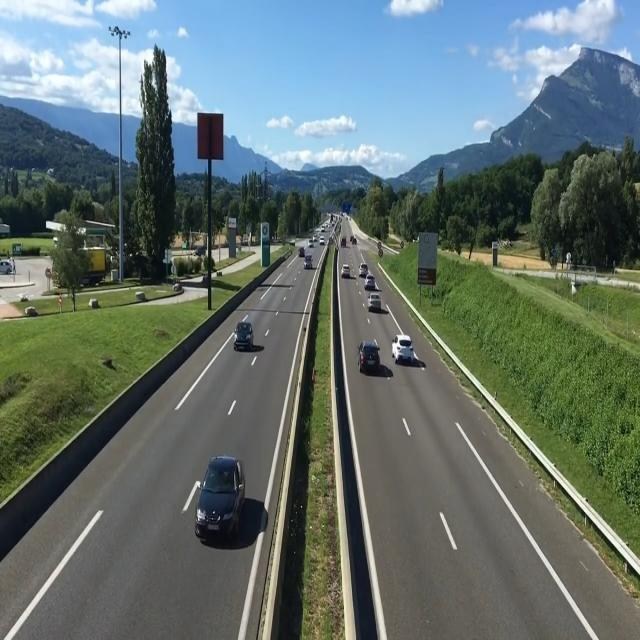Car: (193, 454, 249, 544), (355, 338, 385, 376), (387, 331, 418, 363), (233, 316, 257, 354), (368, 291, 380, 309), (341, 262, 352, 279), (303, 253, 313, 271), (364, 274, 376, 288), (358, 261, 369, 275), (296, 245, 306, 256), (308, 238, 314, 248)
Van: (320, 223, 328, 232), (319, 233, 325, 244)
